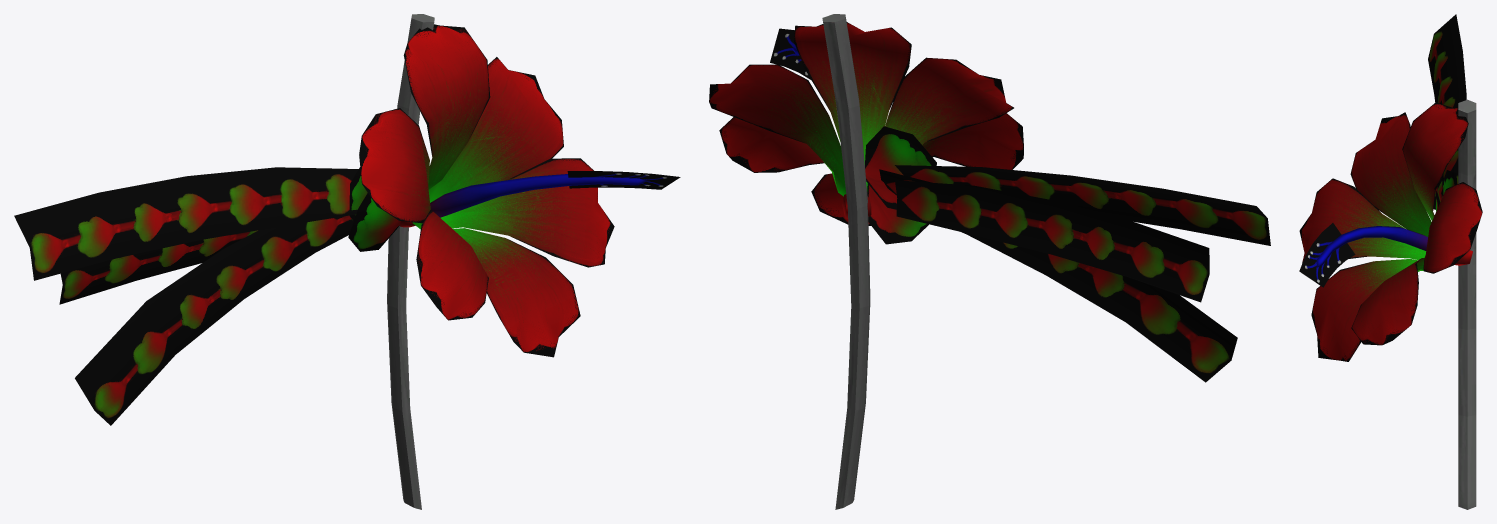
The picture shows the model from 3 angles, left to right: view 1: azimuth 30°, elevation 25°; view 2: azimuth 150°, elevation 25°; view 3: azimuth 270°, elevation 25°; orthographic projection. The views are drawn at different scales.
Parts seen in each view (by area): view 1: G1273; view 2: G1273; view 3: G1273.
Part boxes in pixels (x1,y1,x2,y2): G1273: (14,14,680,509); G1273: (709,14,1270,509); G1273: (1299,14,1482,509).
Size of the model in its own units: 0.5289 by 0.4335 by 0.1773.
